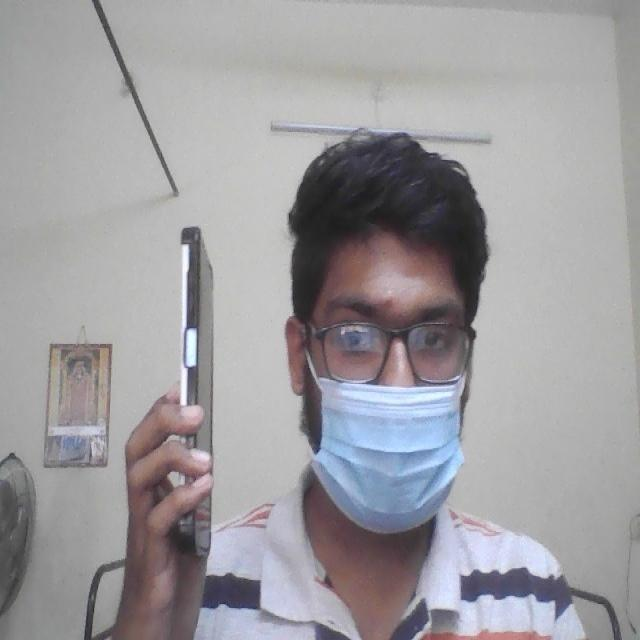Mobile: (178, 196, 223, 568)
